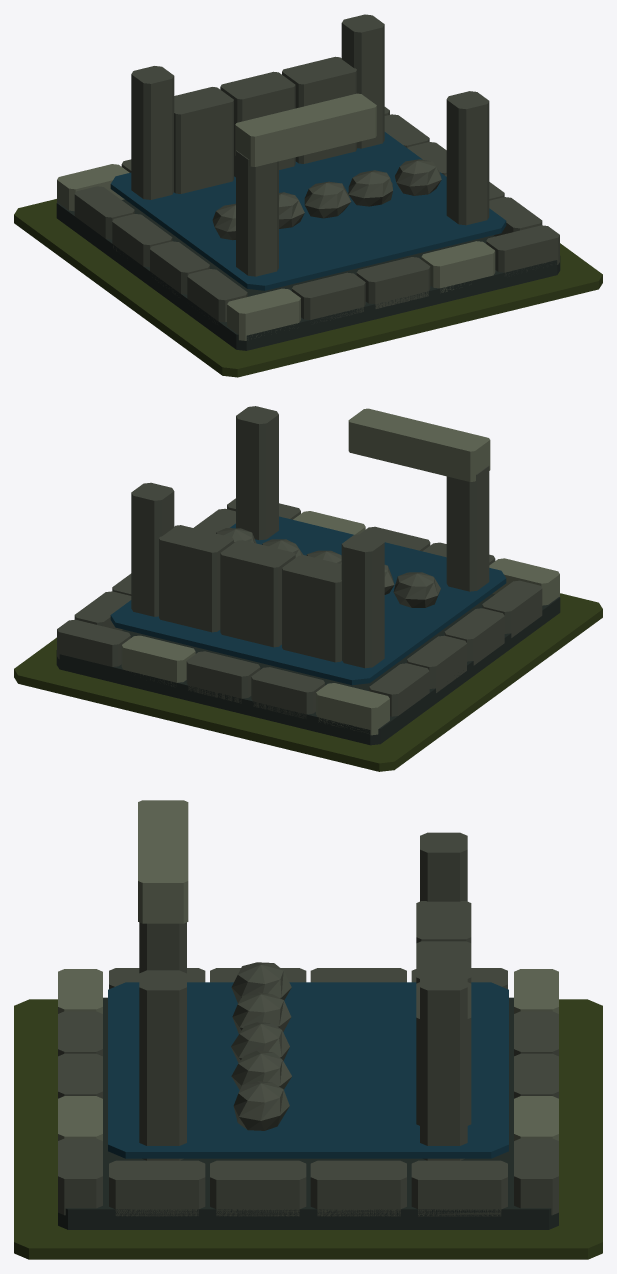
File: sunken-chapel_t2.glb
The picture shows the model from 3 angles, top to bottom: view 1: azimuth 30°, elevation 25°; view 2: azimuth 150°, elevation 25°; view 3: azimuth 270°, elevation 25°; orthographic projection. The views are drawn at different scales.
Parts seen in each view (by area): view 1: MMR | sunken-chapel | T02 Architecture.001, MMR | sunken-chapel | Tier 02 Ground.001; view 2: MMR | sunken-chapel | T02 Architecture.001, MMR | sunken-chapel | Tier 02 Ground.001; view 3: MMR | sunken-chapel | T02 Architecture.001, MMR | sunken-chapel | Tier 02 Ground.001.
Boxes of the visible parts, <box> form: MMR | sunken-chapel | T02 Architecture.001: <box>56,14,560,350</box>; MMR | sunken-chapel | Tier 02 Ground.001: <box>14,199,602,377</box>; MMR | sunken-chapel | T02 Architecture.001: <box>56,406,560,745</box>; MMR | sunken-chapel | Tier 02 Ground.001: <box>14,593,602,771</box>; MMR | sunken-chapel | T02 Architecture.001: <box>58,800,558,1229</box>; MMR | sunken-chapel | Tier 02 Ground.001: <box>14,999,602,1259</box>.
Size of the model in its own units: 2.35 by 1.13 by 2.35.
Materials: 1 (1 with a texture image).
